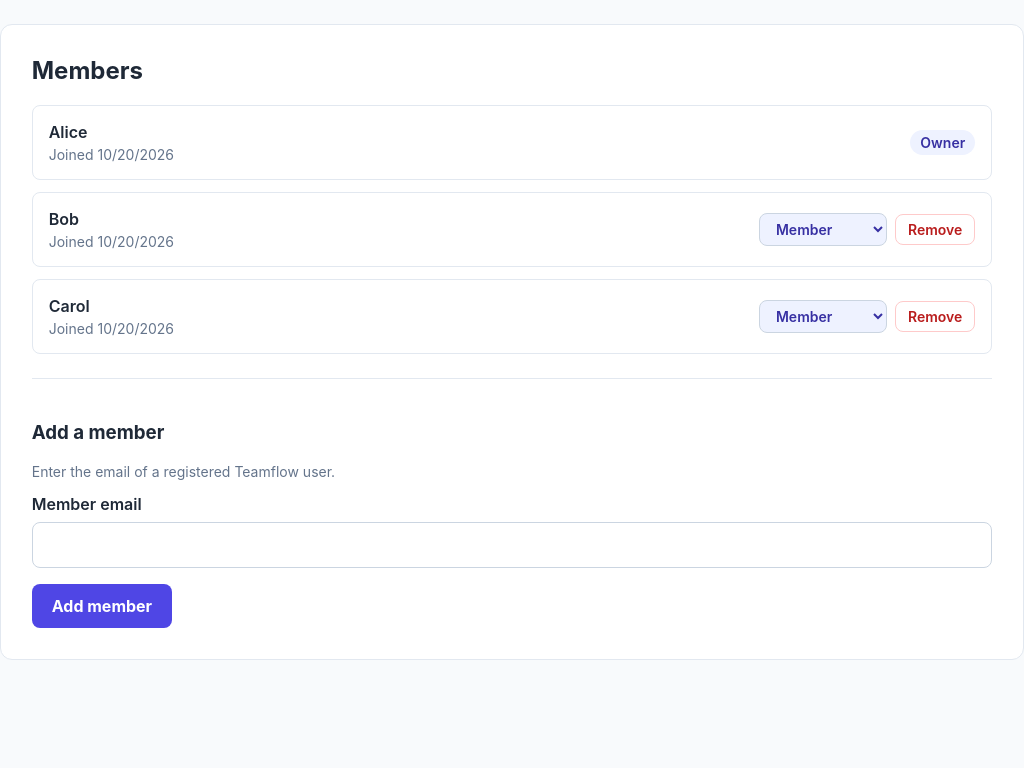
Test: WorkspaceMembersPanel member removal › removes only the confirmed member
Click the button with aria-label "Remove Bob": (935, 229) [895,214,975,245]
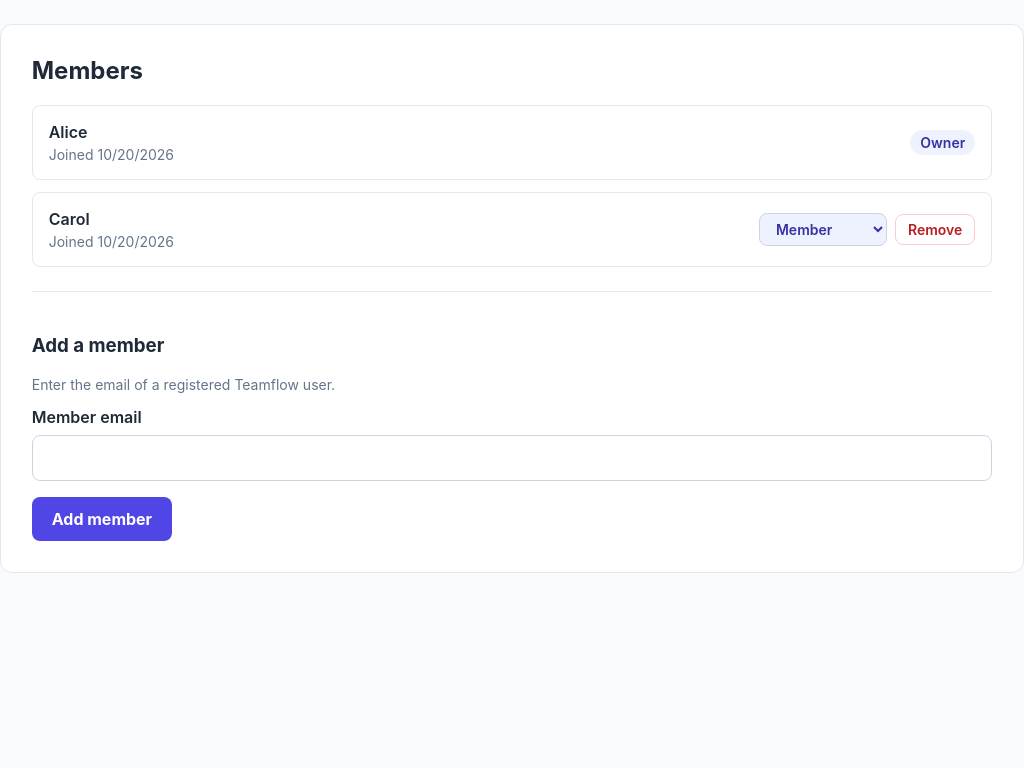
Expected: the text "Alice" is shown, [49,122,88,142]
Result: the list item "Bob Joined 10/20/2026 Remove" is gone
Result: the number of list items is 2 at [32,105,992,180]; [32,192,992,267]
